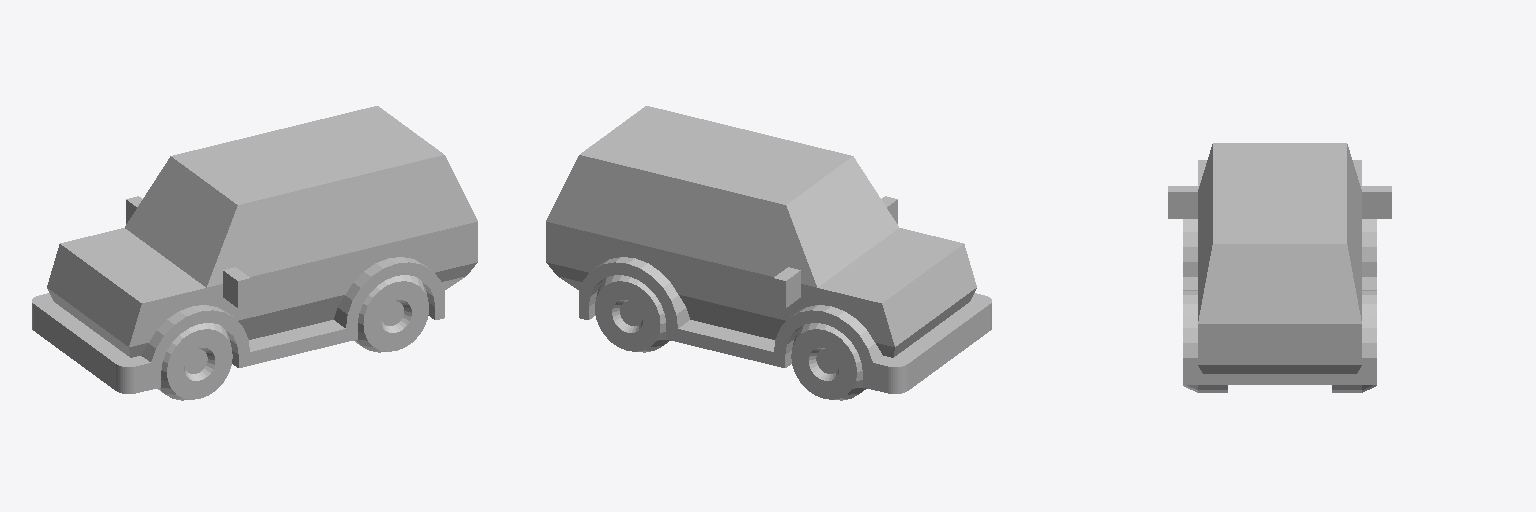
File: suvLuxury.obj
3 views of the same model, side by side, from view 1: azimuth 30°, elevation 25°; view 2: azimuth 150°, elevation 25°; view 3: azimuth 270°, elevation 25° (orthographic).
Visible parts, largest first — view 1: body, wheel_frontLeft, wheel_backLeft; view 2: body, wheel_frontRight, wheel_backRight; view 3: body.
Boxes of the visible parts, <box> form: body: <box>32,106,477,393</box>; wheel_frontLeft: <box>157,323,232,400</box>; wheel_backLeft: <box>353,275,428,352</box>; body: <box>546,106,991,393</box>; wheel_frontRight: <box>791,323,866,400</box>; wheel_backRight: <box>595,275,670,352</box>; body: <box>1168,143,1391,384</box>.
Size of the model in its own units: 2.1 by 0.975 by 1.12.